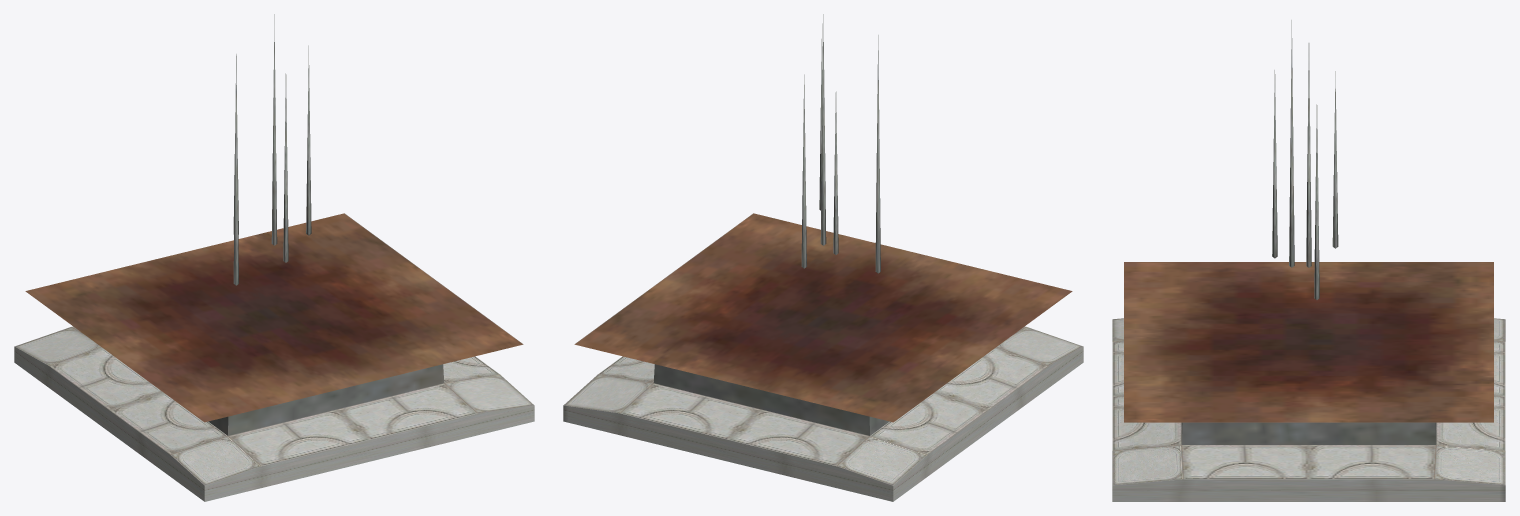
The model's file is thm_corl_fountain_brazier_square_s01_l3.fbx.
3 renders of one model, left to right at view 1: azimuth 30°, elevation 25°; view 2: azimuth 150°, elevation 25°; view 3: azimuth 270°, elevation 25°, orthographic. The views are drawn at different scales.
Parts seen in each view (by area): view 1: mesh_node; view 2: mesh_node; view 3: mesh_node.
Part boxes in pixels (x1=…): mesh_node: x1=14, y1=14, x2=534, y2=501; mesh_node: x1=563, y1=14, x2=1083, y2=501; mesh_node: x1=1112, y1=20, x2=1505, y2=501.
Size of the model in its own units: 6 by 6.57 by 6.
1 material, 1 textured.
